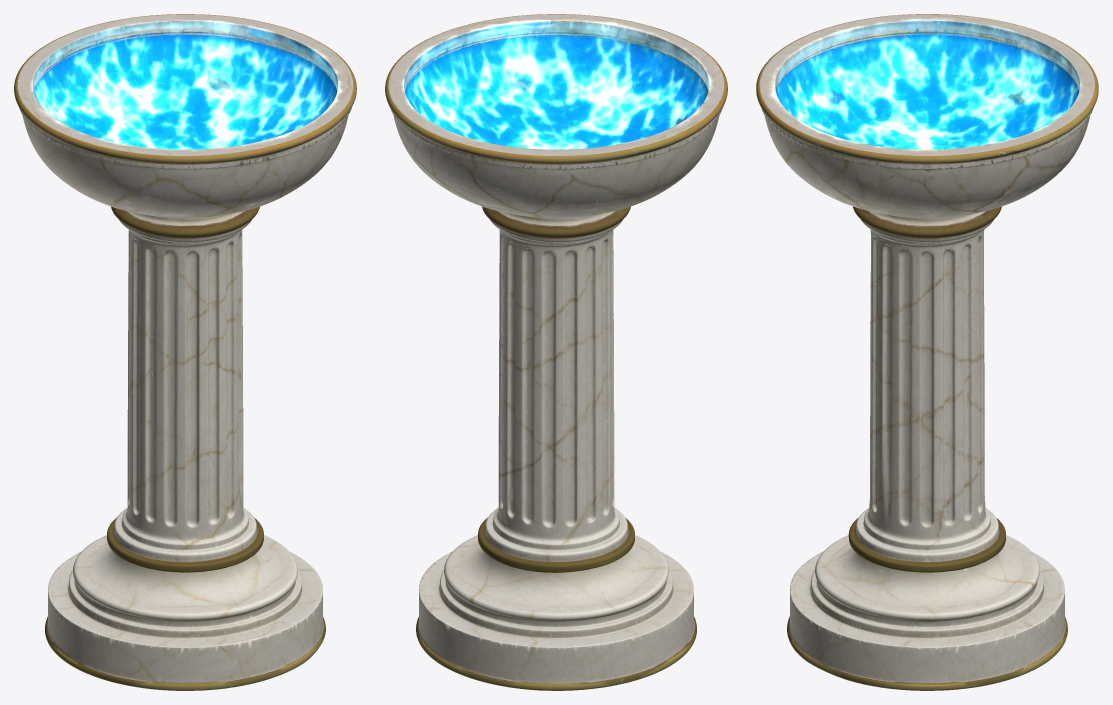
Rendered from antorch.glb.
3 views of the same model, side by side, from view 1: azimuth 30°, elevation 25°; view 2: azimuth 150°, elevation 25°; view 3: azimuth 270°, elevation 25° (orthographic).
Bounding box in the file's own units: 1.08 × 1.9 × 1.08.
1 material, 1 textured.
